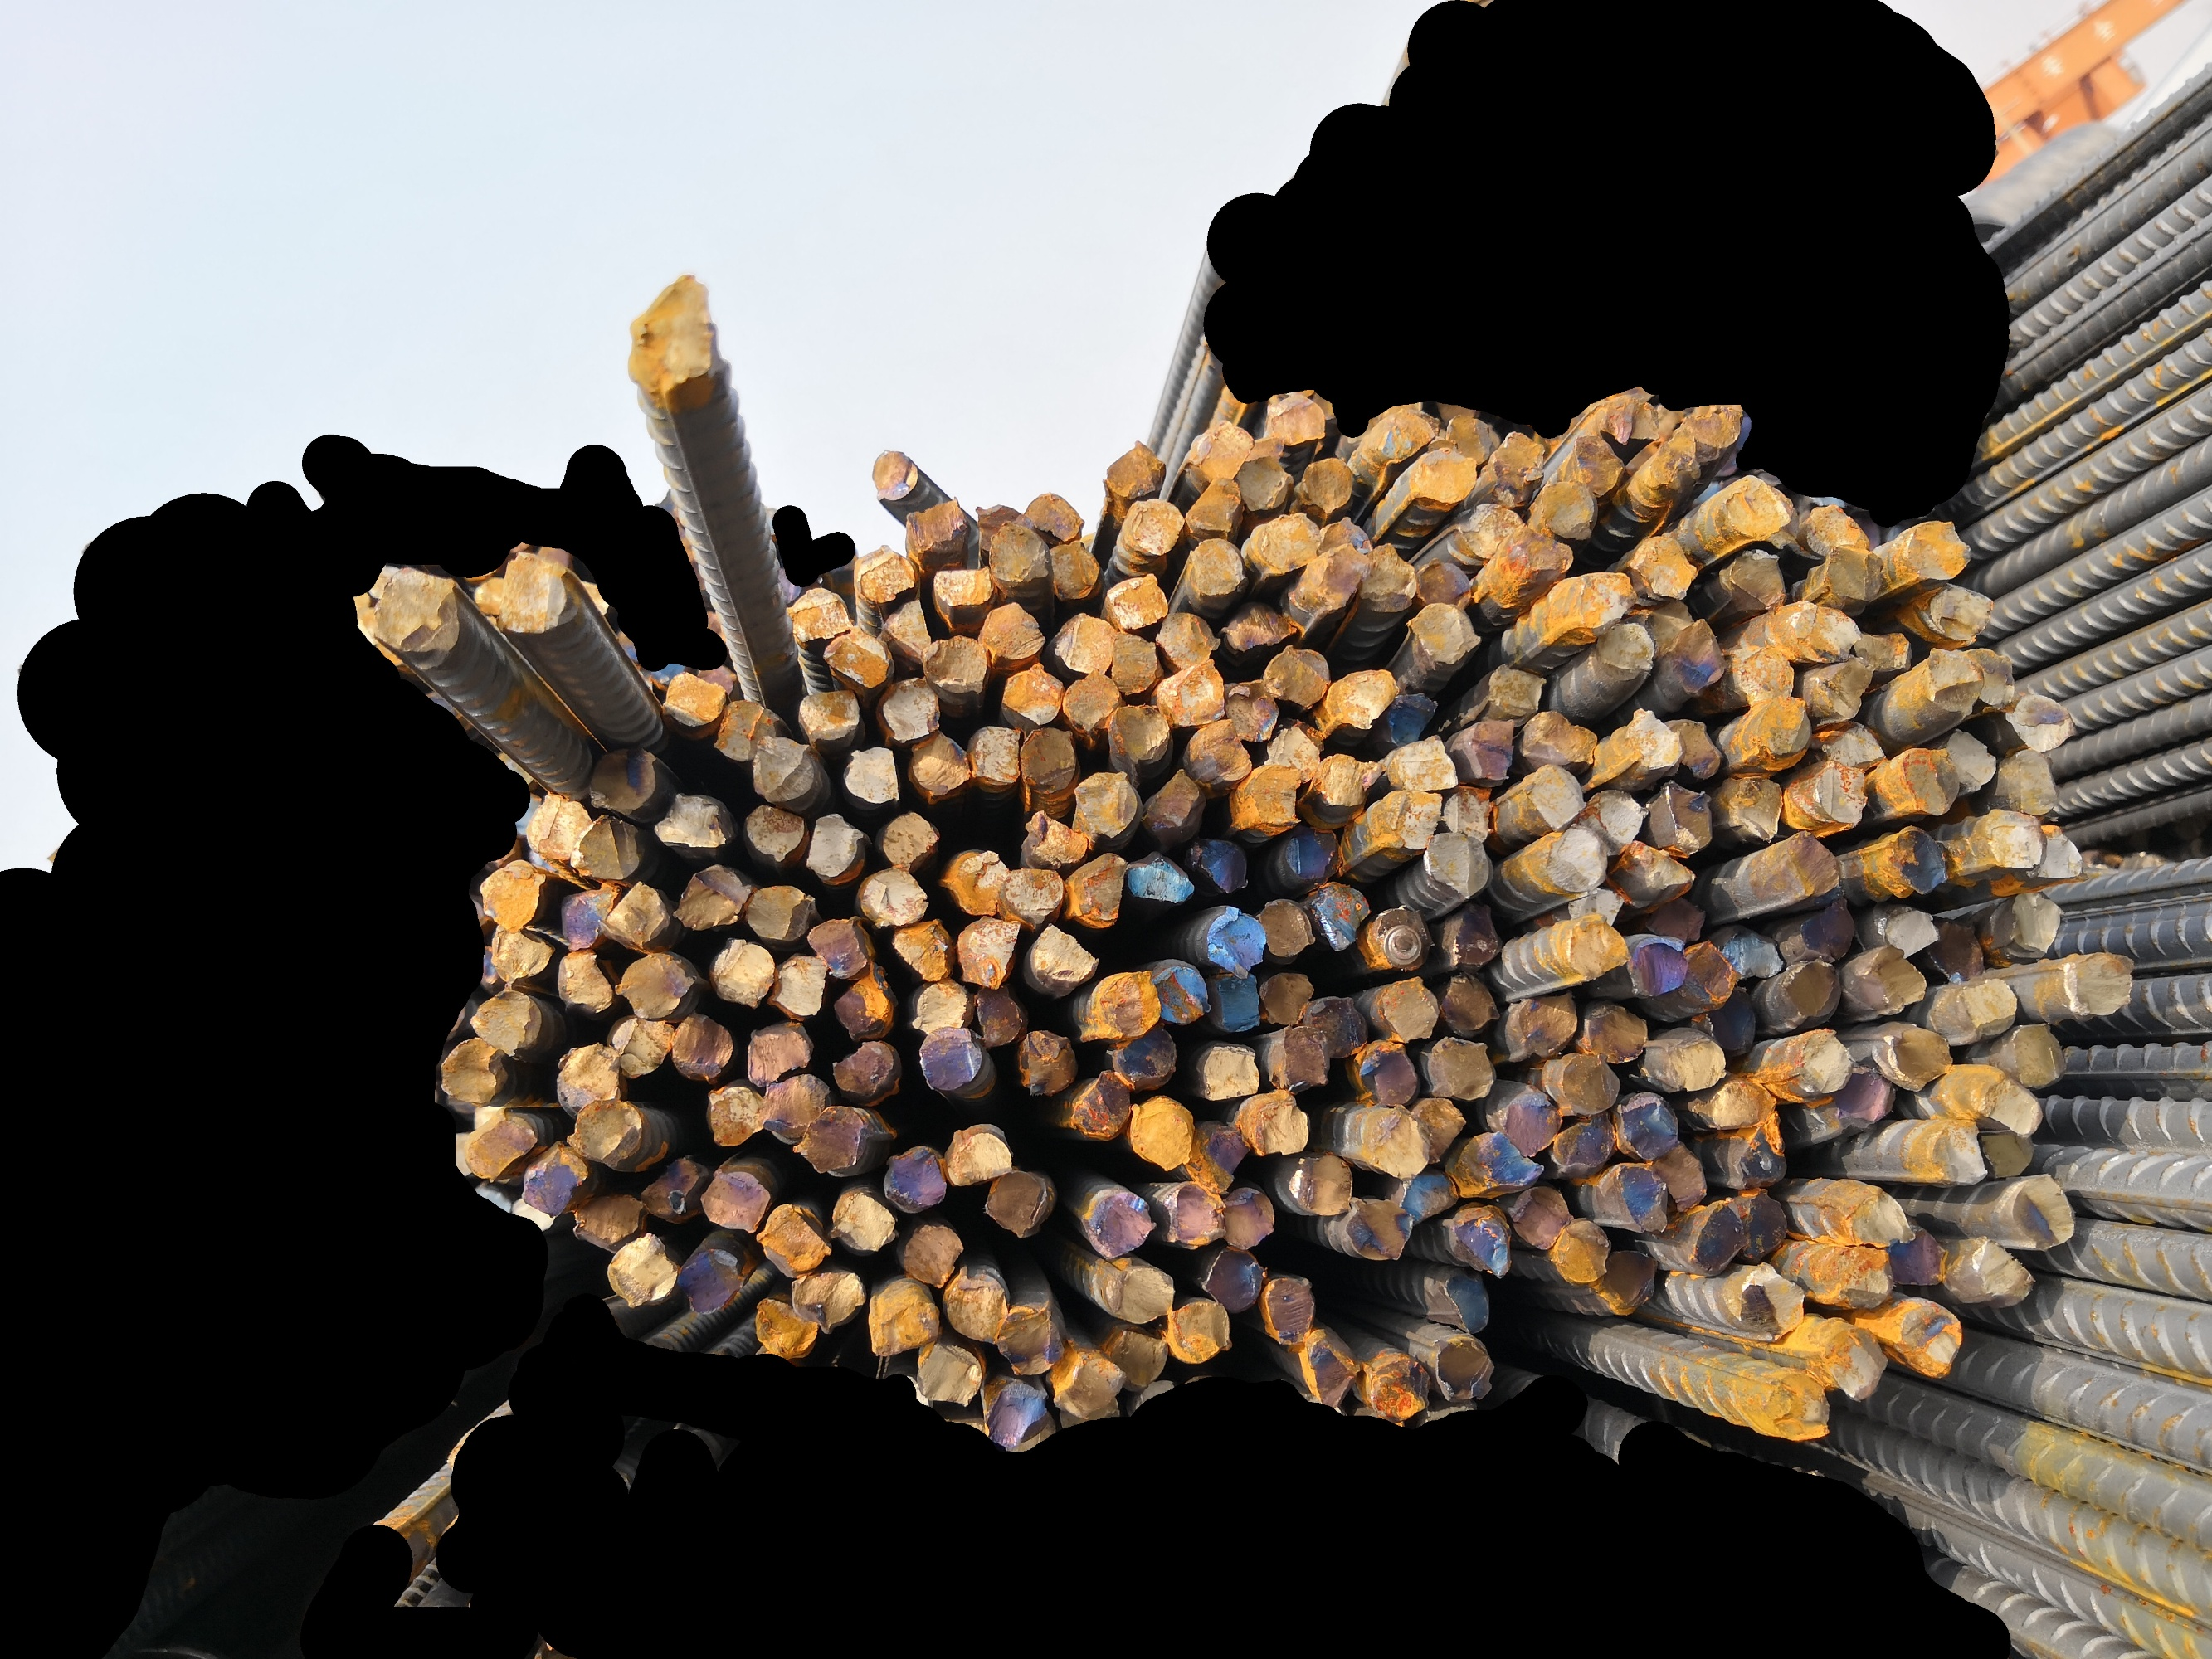rebar: (621, 270, 720, 401), (471, 551, 579, 640), (370, 561, 464, 657), (1607, 838, 1696, 913), (1722, 471, 1801, 551), (462, 1107, 539, 1185), (615, 948, 697, 1021), (603, 1229, 675, 1312), (1349, 1107, 1433, 1178), (1077, 971, 1163, 1040), (1890, 1304, 1966, 1380), (586, 741, 661, 819), (2060, 946, 2137, 1021), (753, 1202, 831, 1276), (1079, 1188, 1157, 1262), (568, 1098, 645, 1171), (519, 1141, 589, 1222), (1738, 1260, 1808, 1340), (760, 1072, 835, 1145), (793, 1101, 868, 1175), (866, 1286, 941, 1359), (675, 861, 751, 932), (2008, 1173, 2078, 1251), (1644, 777, 1713, 856), (553, 1044, 622, 1121), (1762, 1370, 1834, 1443), (1180, 1121, 1250, 1195), (1818, 1324, 1888, 1399), (981, 1377, 1049, 1453), (830, 962, 896, 1040), (654, 789, 734, 854), (1131, 1093, 1196, 1173), (983, 1166, 1053, 1239), (1231, 762, 1304, 831), (1203, 903, 1269, 979), (1464, 1131, 1544, 1194), (523, 791, 593, 863), (436, 1035, 507, 1105), (1107, 1019, 1178, 1089), (1262, 641, 1333, 711), (1072, 767, 1140, 840), (1159, 1178, 1227, 1251), (1154, 657, 1227, 725), (1881, 1025, 1954, 1093), (1788, 599, 1862, 667), (788, 1267, 865, 1331), (957, 911, 1021, 988), (1407, 601, 1483, 666), (1590, 1248, 1659, 1317), (1562, 913, 1632, 983), (1966, 1239, 2036, 1309), (1917, 645, 1987, 714), (819, 624, 891, 692), (743, 1021, 814, 1089), (997, 1305, 1065, 1377), (1053, 1351, 1124, 1419), (1161, 1298, 1232, 1366), (750, 732, 816, 805), (709, 936, 776, 1009), (882, 1141, 947, 1216), (856, 864, 931, 929), (481, 861, 549, 931), (572, 816, 641, 884), (898, 1220, 966, 1290), (903, 728, 973, 796), (1496, 1087, 1564, 1157), (920, 633, 992, 699), (1327, 666, 1398, 732), (1863, 945, 1930, 1016), (708, 695, 781, 760), (943, 1121, 1016, 1185), (676, 1246, 744, 1314), (1065, 1070, 1133, 1138), (1511, 992, 1579, 1060), (1422, 831, 1490, 899), (669, 1012, 736, 1082), (830, 1185, 896, 1255), (1103, 1323, 1170, 1392), (1112, 1263, 1182, 1330), (1034, 922, 1100, 992), (1365, 1352, 1431, 1422), (1551, 1107, 1618, 1176), (1523, 763, 1590, 833), (1715, 774, 1781, 843), (1070, 850, 1128, 931), (1579, 1000, 1651, 1065), (1815, 653, 1879, 725), (1886, 824, 1951, 896), (1344, 1199, 1417, 1262), (1250, 511, 1323, 573), (1572, 791, 1645, 854), (1625, 594, 1701, 653), (472, 990, 539, 1058), (702, 1169, 770, 1236), (638, 1157, 706, 1223), (945, 1276, 1011, 1344), (917, 1026, 983, 1094), (877, 676, 945, 742), (945, 849, 1013, 915), (1977, 1072, 2045, 1138), (1572, 566, 1640, 633), (750, 1295, 819, 1359), (603, 880, 668, 950), (915, 1344, 985, 1408), (1691, 1079, 1780, 1129), (1548, 1215, 1611, 1286), (1426, 1037, 1497, 1100), (1307, 882, 1370, 953), (1628, 537, 1700, 599), (743, 882, 818, 941), (1842, 1190, 1917, 1249), (1731, 1114, 1790, 1188), (1783, 829, 1842, 904), (889, 918, 955, 985), (1053, 608, 1119, 674), (985, 521, 1053, 586), (978, 599, 1048, 662), (847, 544, 919, 605), (1020, 725, 1081, 796), (1647, 1140, 1708, 1211), (657, 671, 730, 730), (560, 877, 619, 950), (805, 807, 865, 880), (1457, 500, 1530, 559), (2005, 694, 2080, 751), (1222, 596, 1299, 652), (1733, 1187, 1788, 1263), (1670, 617, 1726, 694), (490, 922, 556, 986), (608, 1016, 675, 1080), (1199, 1246, 1262, 1314), (1304, 542, 1372, 605), (1544, 824, 1607, 892), (1930, 580, 1998, 643), (783, 586, 852, 647), (1530, 706, 1600, 767), (1727, 544, 1788, 613), (899, 497, 971, 556), (2010, 1019, 2069, 1091), (1705, 985, 1762, 1058), (1902, 742, 1959, 816), (804, 913, 868, 978), (1304, 995, 1368, 1060), (1830, 1246, 1895, 1310), (1834, 1063, 1898, 1127), (1625, 934, 1689, 999), (1358, 1042, 1421, 1108), (1143, 962, 1211, 1023), (1442, 899, 1503, 967), (1618, 1093, 1679, 1161), (1497, 525, 1574, 579), (553, 946, 612, 1016), (1999, 748, 2059, 817), (1388, 734, 1459, 791), (1222, 1182, 1278, 1255), (1407, 450, 1480, 505), (1691, 1199, 1745, 1274), (1510, 1187, 1572, 1251), (1558, 1053, 1621, 1117), (1260, 718, 1323, 782), (1157, 608, 1222, 671), (1733, 643, 1795, 708), (1984, 809, 2046, 873), (1433, 1337, 1494, 1403), (1374, 904, 1435, 971), (1100, 439, 1166, 500), (1682, 939, 1743, 1006), (1752, 692, 1813, 758), (795, 687, 863, 746), (1931, 1119, 1991, 1187), (1018, 1026, 1075, 1096), (1381, 974, 1438, 1044), (1360, 542, 1417, 612), (1804, 502, 1874, 559), (1314, 753, 1386, 809), (1614, 1161, 1668, 1234), (1002, 662, 1065, 725), (1191, 718, 1253, 781), (1192, 420, 1255, 483), (1884, 1223, 1947, 1286), (1623, 708, 1686, 770), (1909, 518, 1971, 580), (1199, 1044, 1264, 1105), (1107, 702, 1171, 763), (1663, 1030, 1727, 1091), (1958, 976, 2019, 1040), (1062, 667, 1121, 734), (770, 951, 828, 1019), (1455, 1209, 1511, 1279), (1801, 892, 1856, 962), (1813, 760, 1869, 829), (826, 1042, 898, 1096), (570, 1192, 643, 1244), (706, 1084, 767, 1147), (1264, 1276, 1316, 1349), (1290, 1157, 1353, 1218), (1381, 788, 1442, 850), (1792, 1030, 1853, 1093), (1595, 617, 1658, 678), (973, 497, 1037, 556), (743, 803, 807, 863), (1001, 864, 1065, 924), (1438, 971, 1497, 1035), (1537, 477, 1597, 542), (1926, 917, 1985, 981), (1128, 852, 1196, 908), (1410, 1094, 1466, 1162), (1252, 1098, 1313, 1159), (1823, 542, 1884, 603), (2029, 821, 2090, 882), (1025, 810, 1088, 870), (1184, 538, 1246, 598), (1271, 1025, 1328, 1089), (1222, 678, 1279, 742), (1105, 572, 1170, 629), (1665, 714, 1722, 779), (1816, 718, 1890, 769), (1485, 444, 1541, 511), (971, 983, 1025, 1051), (1717, 927, 1785, 981), (1257, 897, 1316, 958), (1184, 474, 1243, 535), (1781, 957, 1841, 1018), (1306, 1337, 1356, 1408), (1147, 767, 1204, 829), (1264, 392, 1328, 448), (2008, 889, 2062, 955), (1963, 643, 2017, 709), (1944, 727, 1998, 793), (880, 812, 941, 870), (840, 746, 901, 803), (1124, 498, 1185, 556), (1299, 453, 1354, 516), (1370, 413, 1436, 465), (1462, 716, 1515, 782), (882, 596, 934, 660), (1211, 971, 1264, 1035), (1572, 434, 1625, 498), (1647, 429, 1700, 493), (1389, 1171, 1461, 1218), (1021, 491, 1088, 542), (1109, 629, 1157, 697), (1679, 401, 1747, 450), (910, 978, 967, 1035), (1259, 969, 1316, 1026), (969, 725, 1021, 788), (1196, 838, 1252, 896), (1048, 540, 1100, 601), (1438, 1274, 1490, 1335), (1487, 664, 1548, 716), (1565, 882, 1626, 934), (1597, 394, 1661, 443), (866, 450, 922, 505), (1285, 824, 1339, 882), (1236, 457, 1293, 511), (1443, 784, 1494, 845), (933, 559, 994, 608), (1645, 897, 1706, 946), (1884, 904, 1938, 958), (1415, 556, 1471, 608), (1382, 694, 1438, 746), (1982, 1126, 2036, 1178), (1443, 413, 1494, 467), (1316, 516, 1374, 561), (1853, 629, 1910, 674), (1504, 427, 1546, 469)
